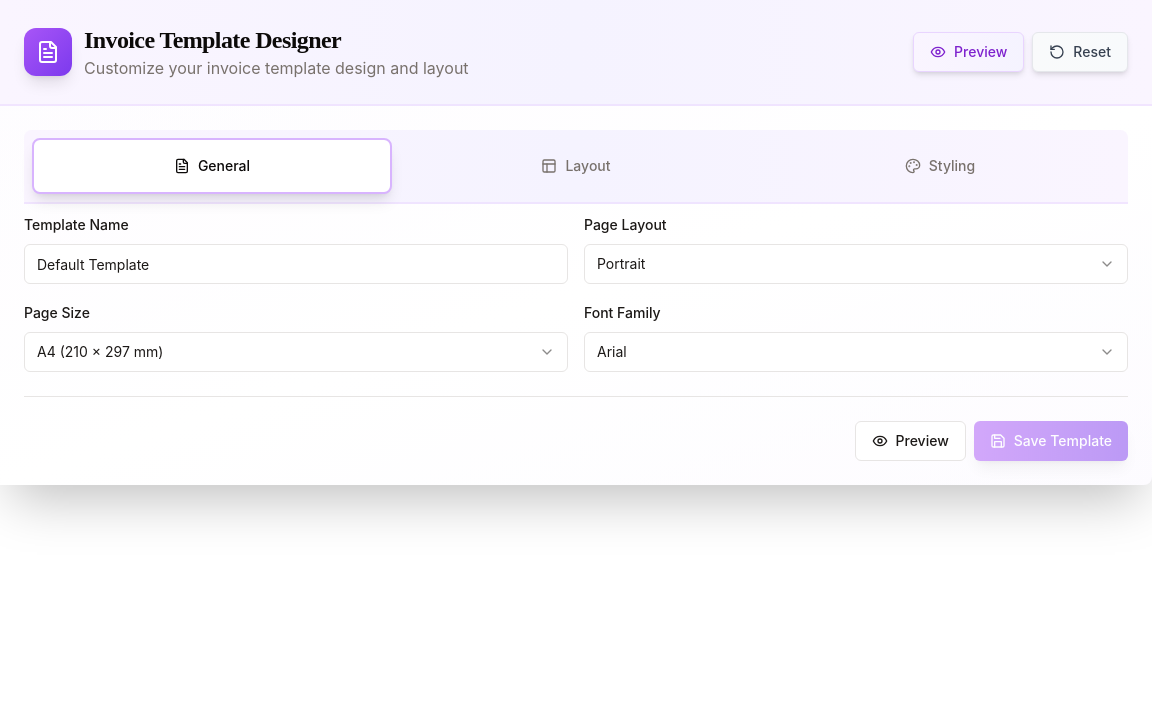
Settings Interface - Docker Integration Tests › Invoice Template Designer › shows preview mode
Click the button "Preview" in the row of "Invoice Template Designer": [969, 52] box 913,32 -> 1024,72
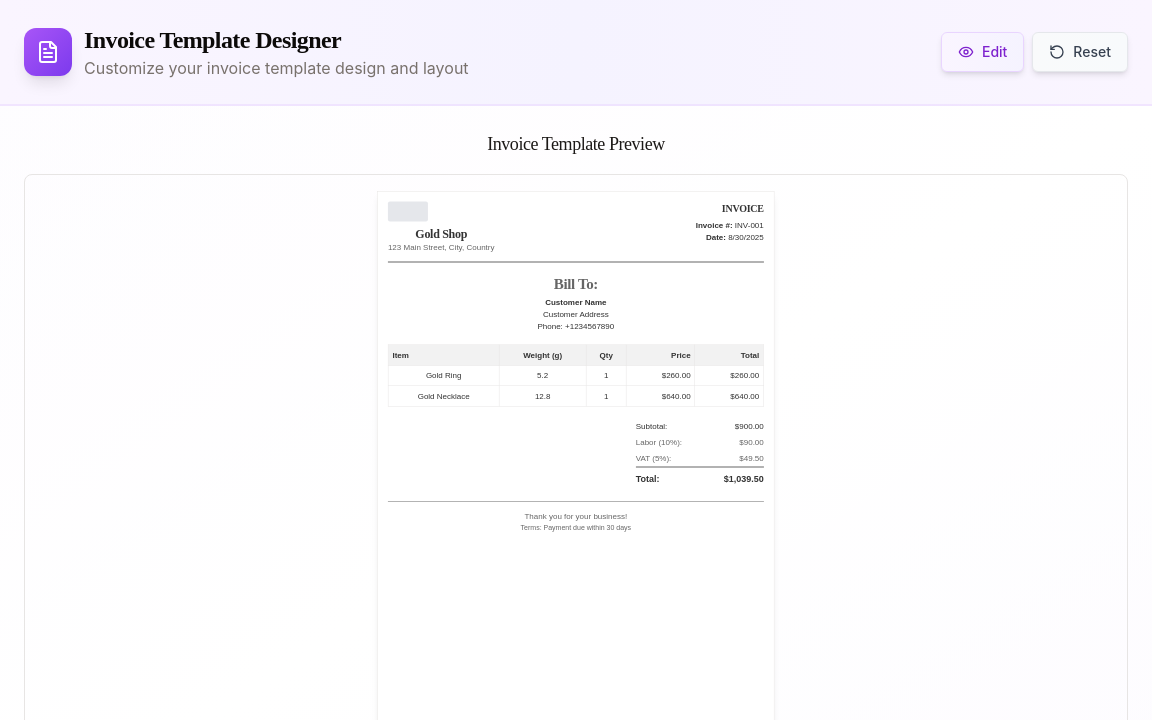
Expected: the heading "Invoice Template Preview" is shown, 487,134 -> 665,154
